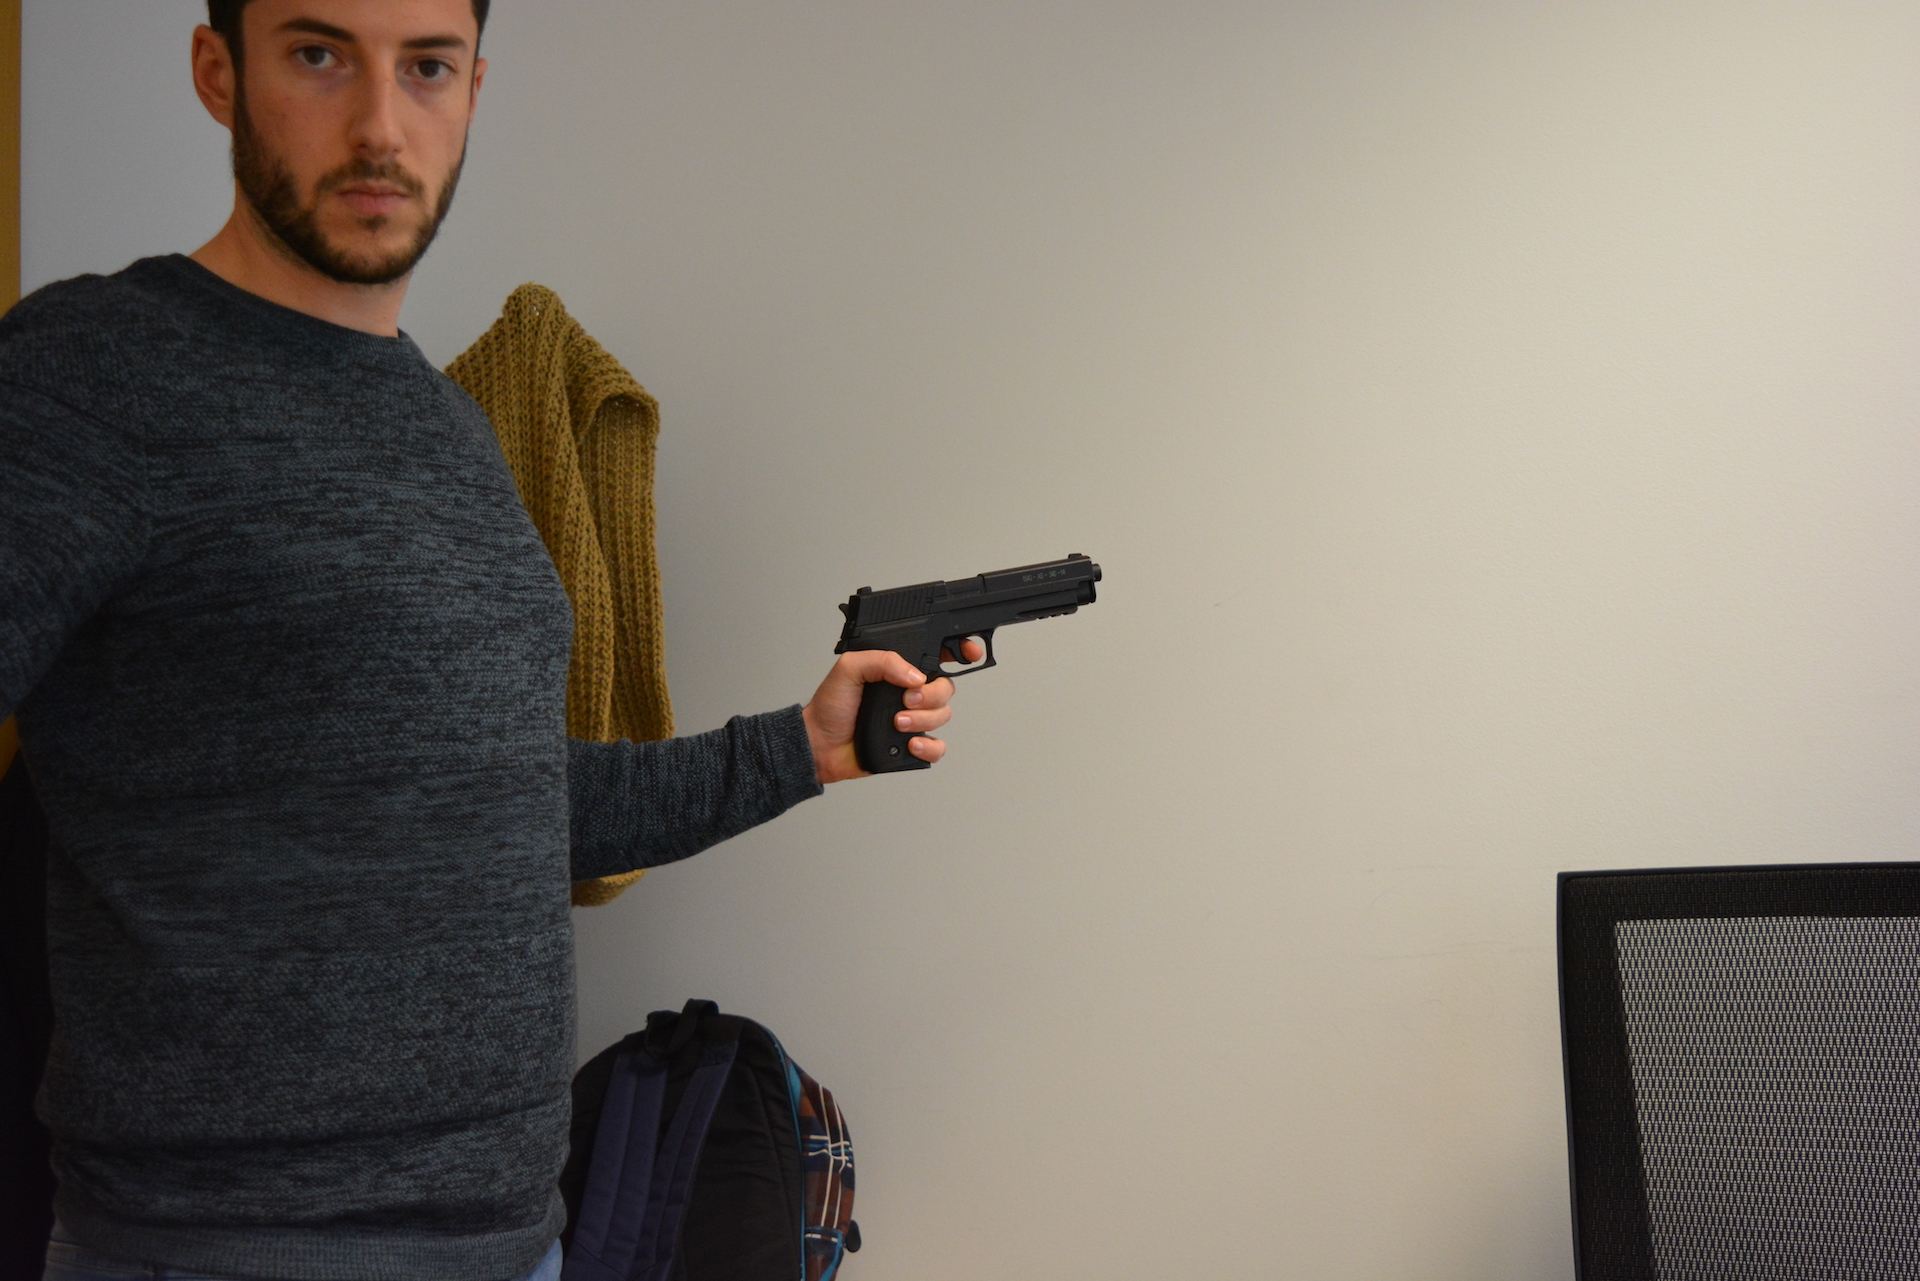pistol: (832, 550, 1104, 776)
